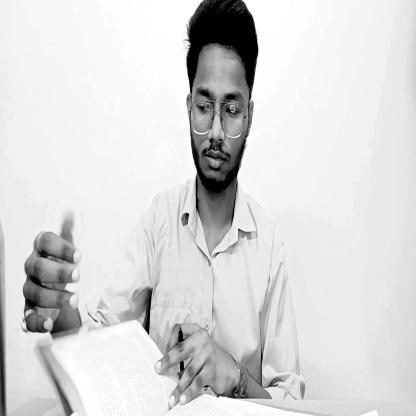Normal: (184, 3, 263, 193)
